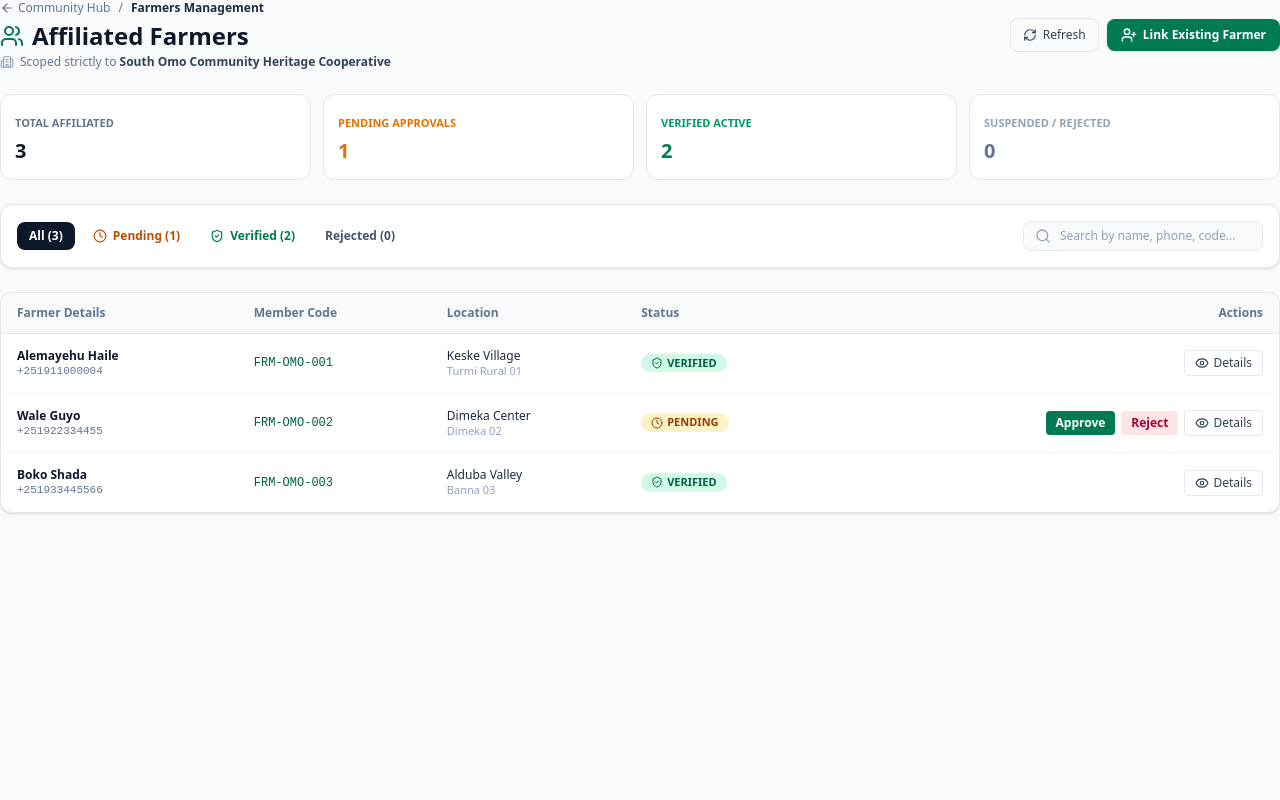
Farmers Management & Enterprise Isolation (F-802) › opens farmer details modal and shows balance summary numbers
This screenshot has width=1280, height=800.
Click the button with test id "view-farmer-22222222-2222-2222-2222-222222222222".
click(1224, 363)  # box [1184,350,1263,376]
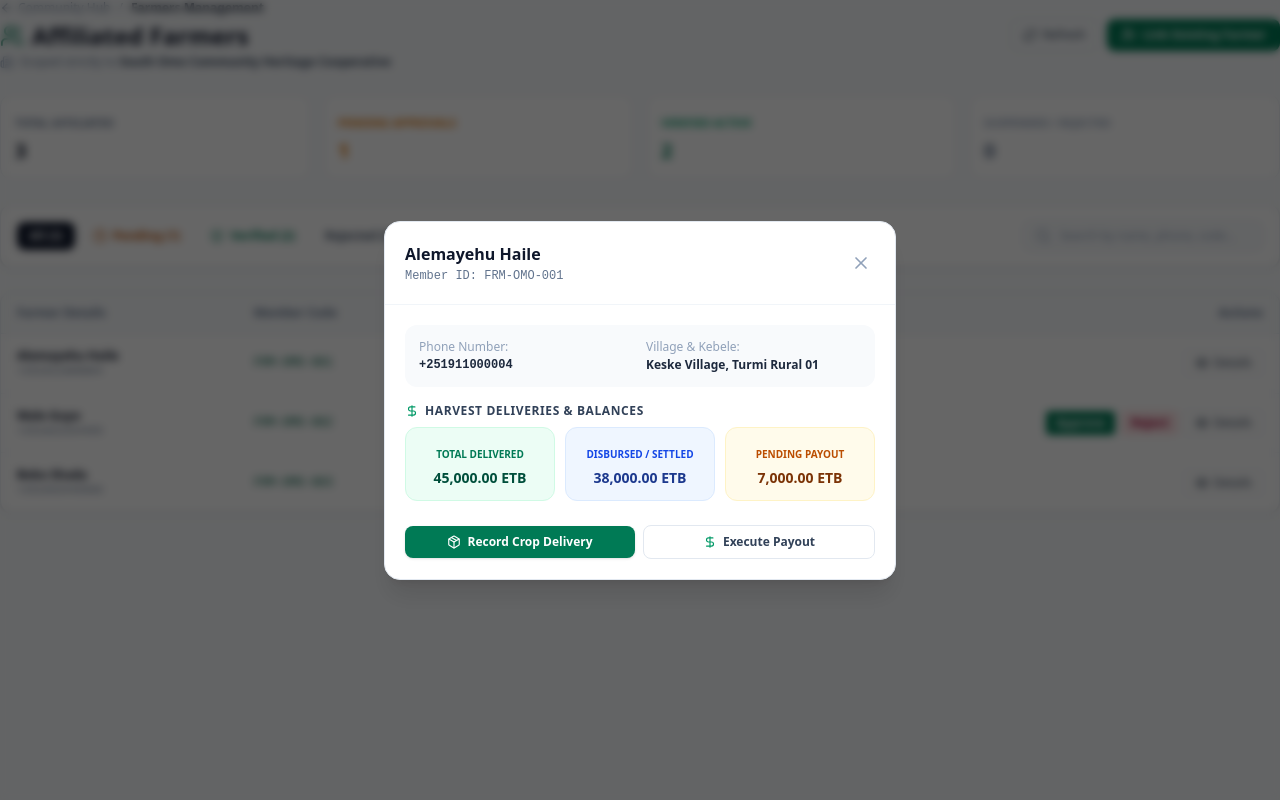
Expected: the dialog with test id "farmer-detail-modal" is shown
Expected: the text "45,000.00 ETB" is shown, [434,468,526,486]
Expected: the text "38,000.00 ETB" is shown, [594,468,686,486]
